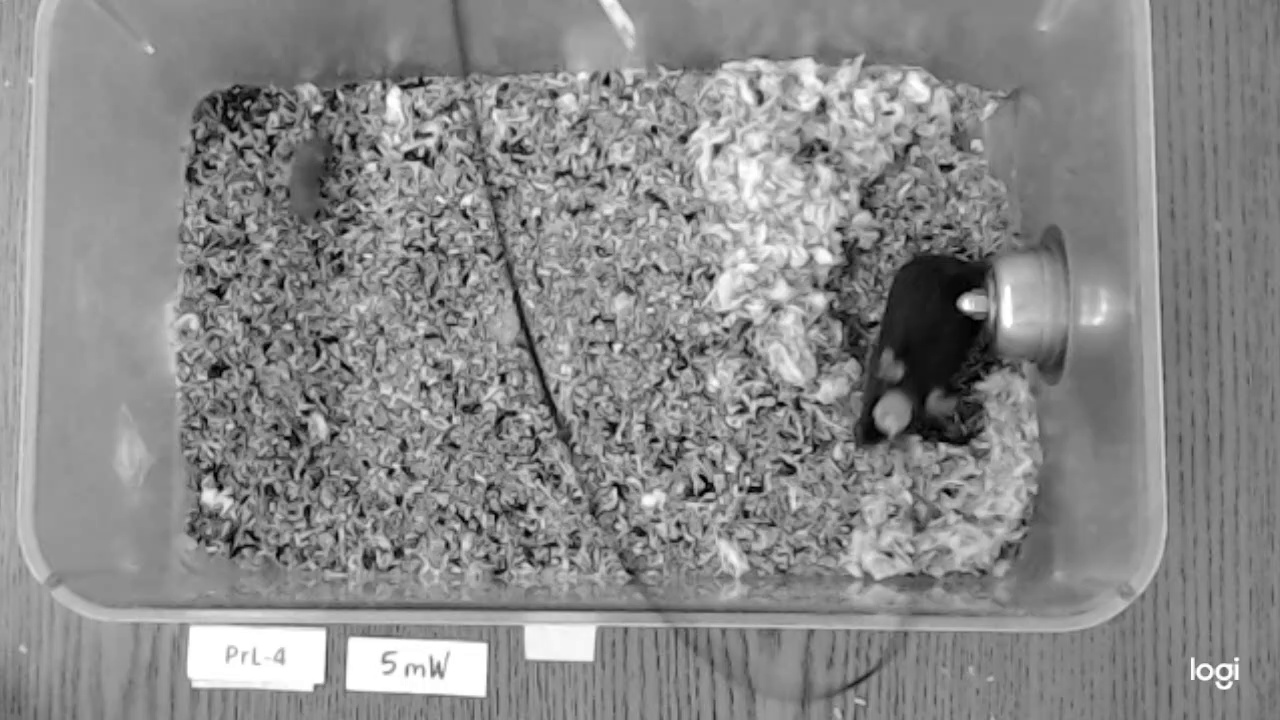child-mice: (288, 137, 327, 222)
